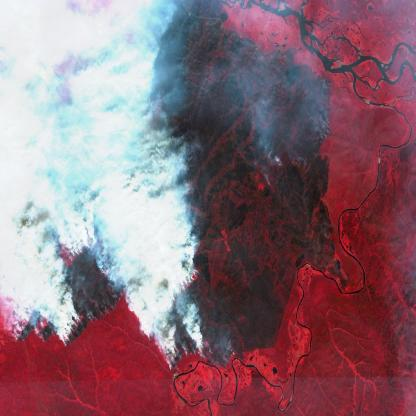fire: (12, 234, 129, 356), (144, 264, 210, 376), (314, 71, 338, 154)
